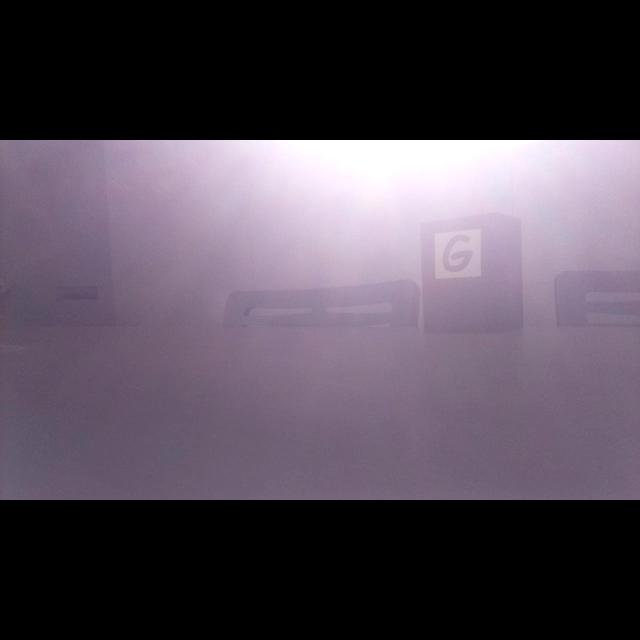G: (442, 234, 473, 272)
